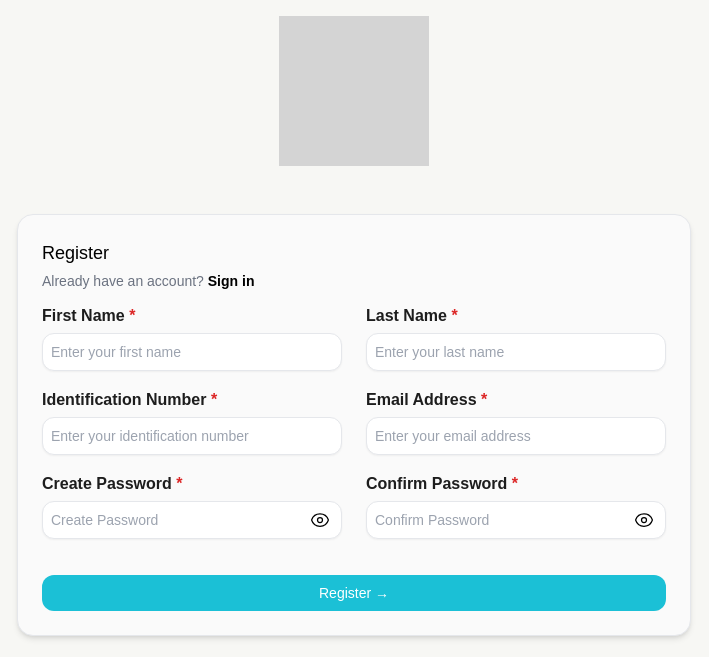
Test: AdminRegistration Component › shows error messages for empty fields
Click the button "Register →" at [354, 593], box [42,575,666,611]
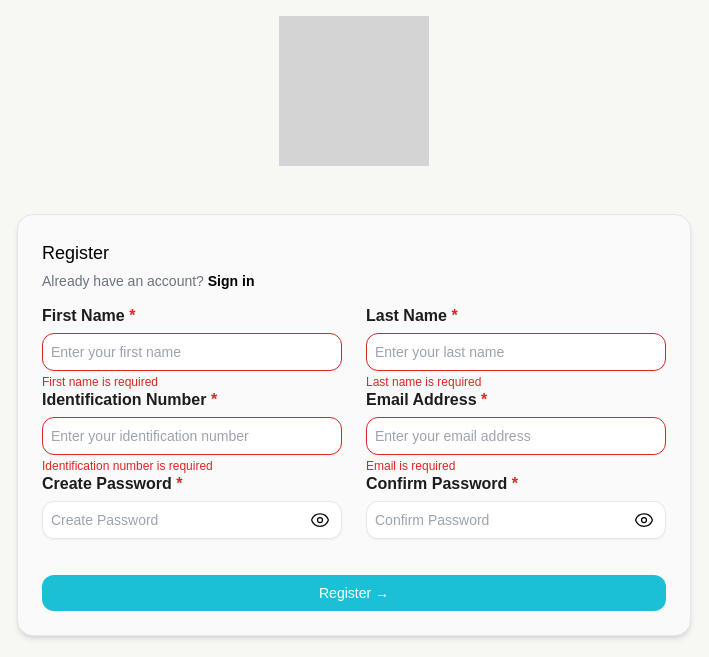
Check: the text "First name is required" is shown, box [42,375,158,389]
Check: the text "Last name is required" is shown, box [366,375,481,389]
Check: the text "Identification number is required" is shown, box [42,459,213,473]
